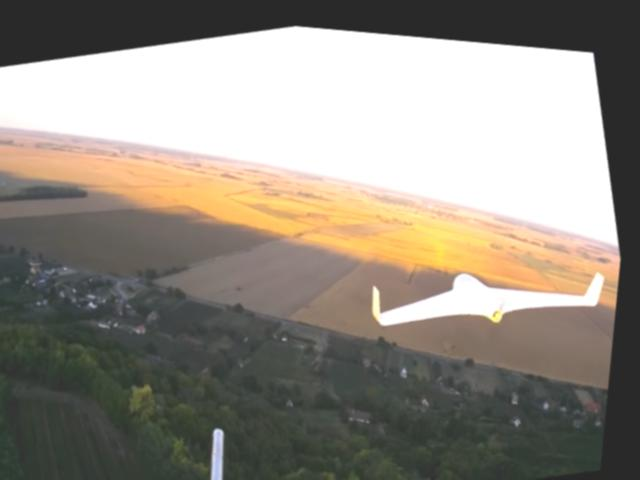plane: (371, 228, 616, 347)
